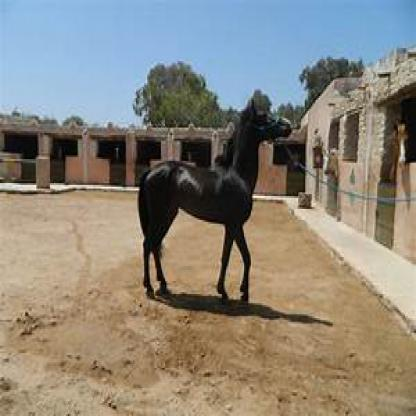horse: (138, 98, 292, 298)
